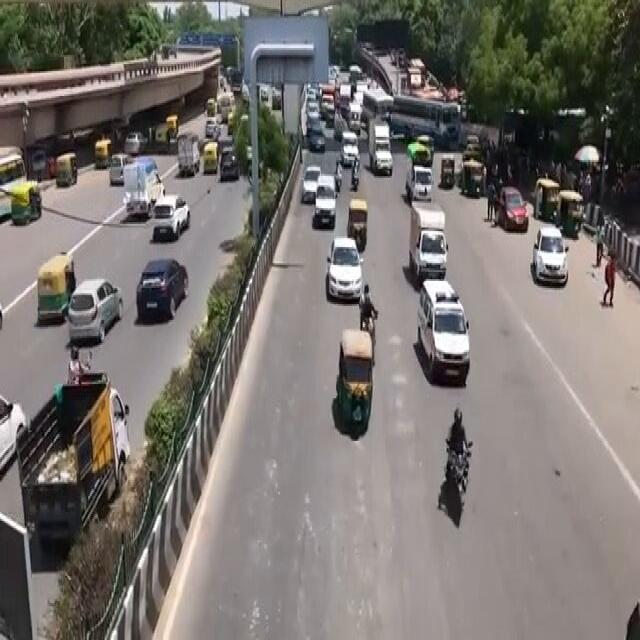three_wheeler: (308, 327, 386, 452)
